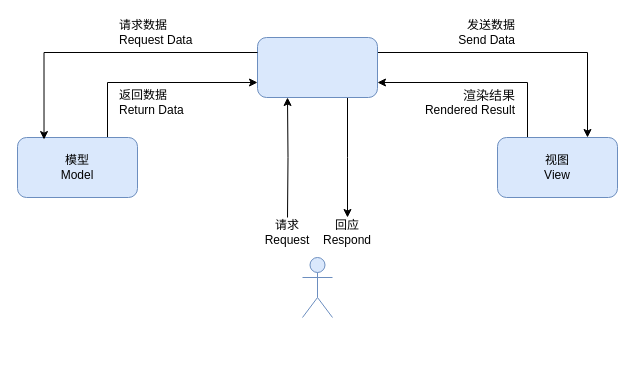
Image size: 635x370. Some labels were removed from this diagram. Each missing label, with the centre of its shape:
控制器 Controller: the point at 317,67
用户 User: the point at 317,287
